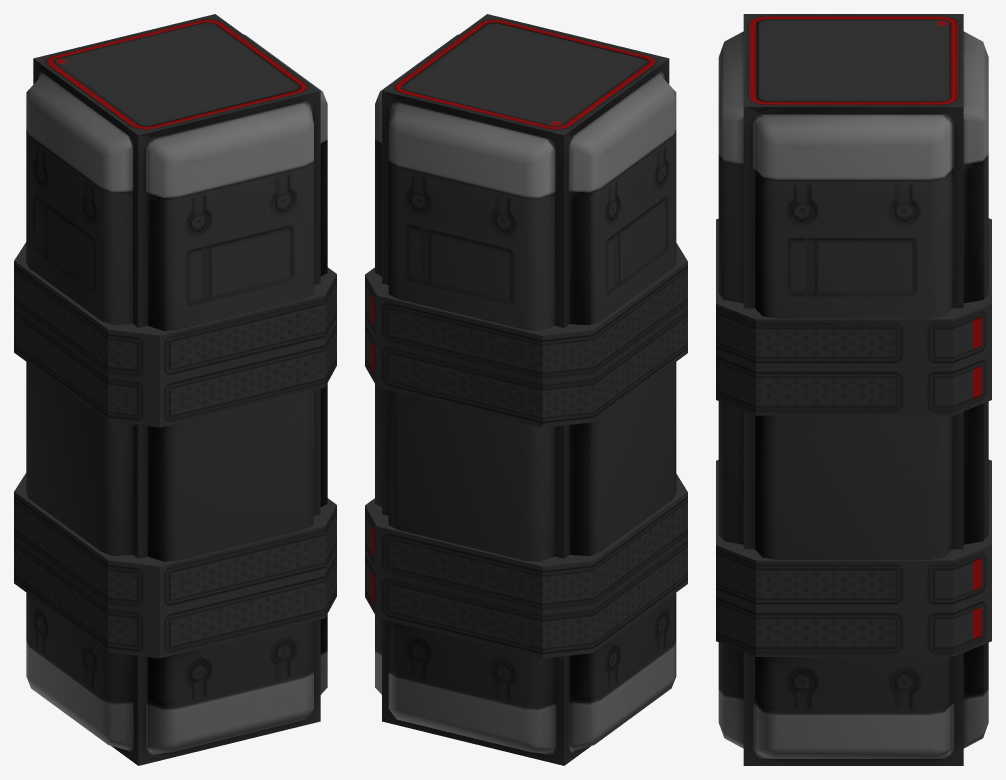
Rendered from Panel_A_Box_2.FBX.
3 views of the same model, side by side, from view 1: azimuth 30°, elevation 25°; view 2: azimuth 150°, elevation 25°; view 3: azimuth 270°, elevation 25° (orthographic). The views are drawn at different scales.
Visible parts, largest first — view 1: Panel_A_Box_2; view 2: Panel_A_Box_2; view 3: Panel_A_Box_2.
Boxes of the visible parts, x1=… form: Panel_A_Box_2: x1=14, y1=14, x2=336, y2=765; Panel_A_Box_2: x1=365, y1=14, x2=687, y2=765; Panel_A_Box_2: x1=716, y1=14, x2=991, y2=765.
Size of the model in its own units: 37.91 by 100 by 37.91.
